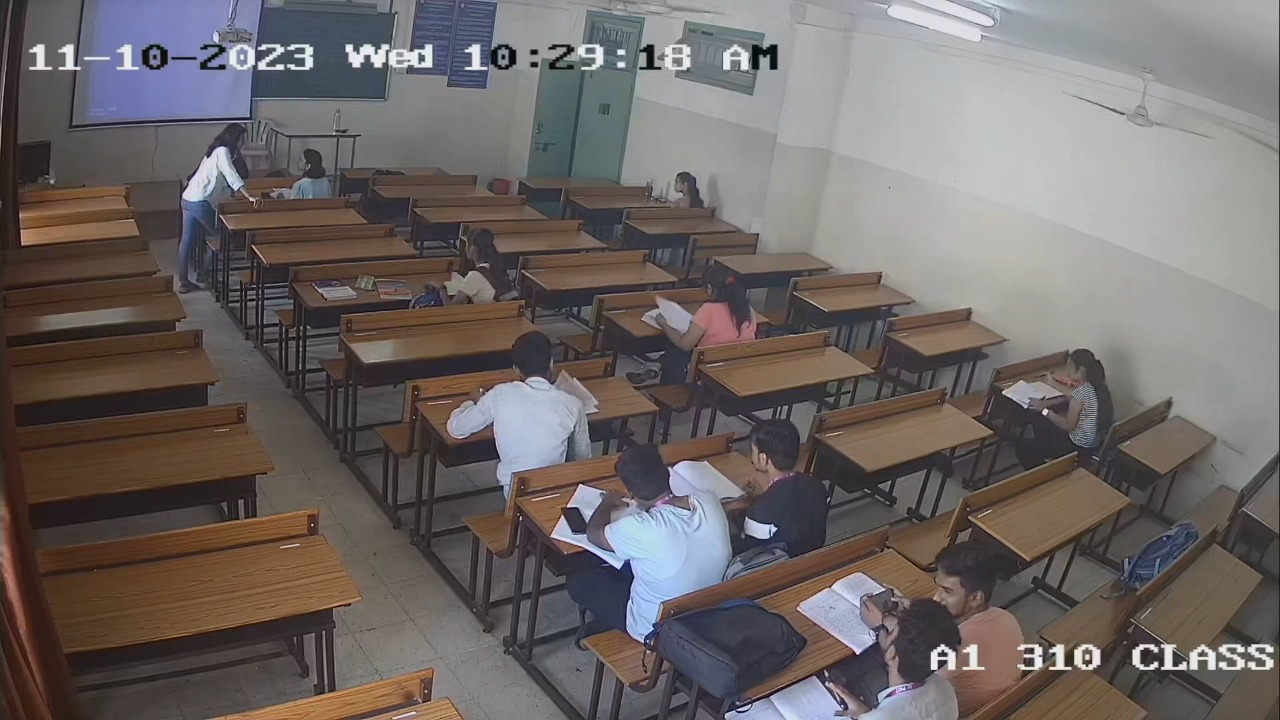cell-phones: (861, 586, 899, 620), (560, 503, 588, 536), (651, 192, 670, 205), (260, 191, 272, 199)
person: (585, 442, 735, 608), (929, 539, 1026, 690), (289, 148, 332, 199), (670, 171, 706, 207)
